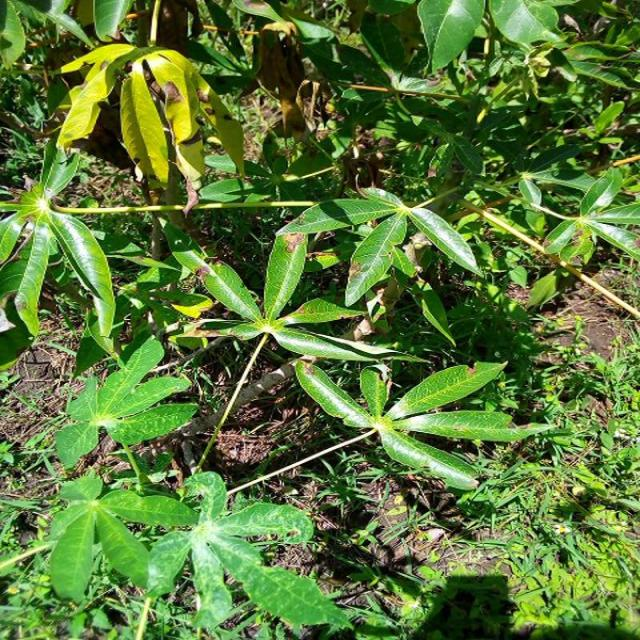cassava leaf: (293, 355, 552, 492)
